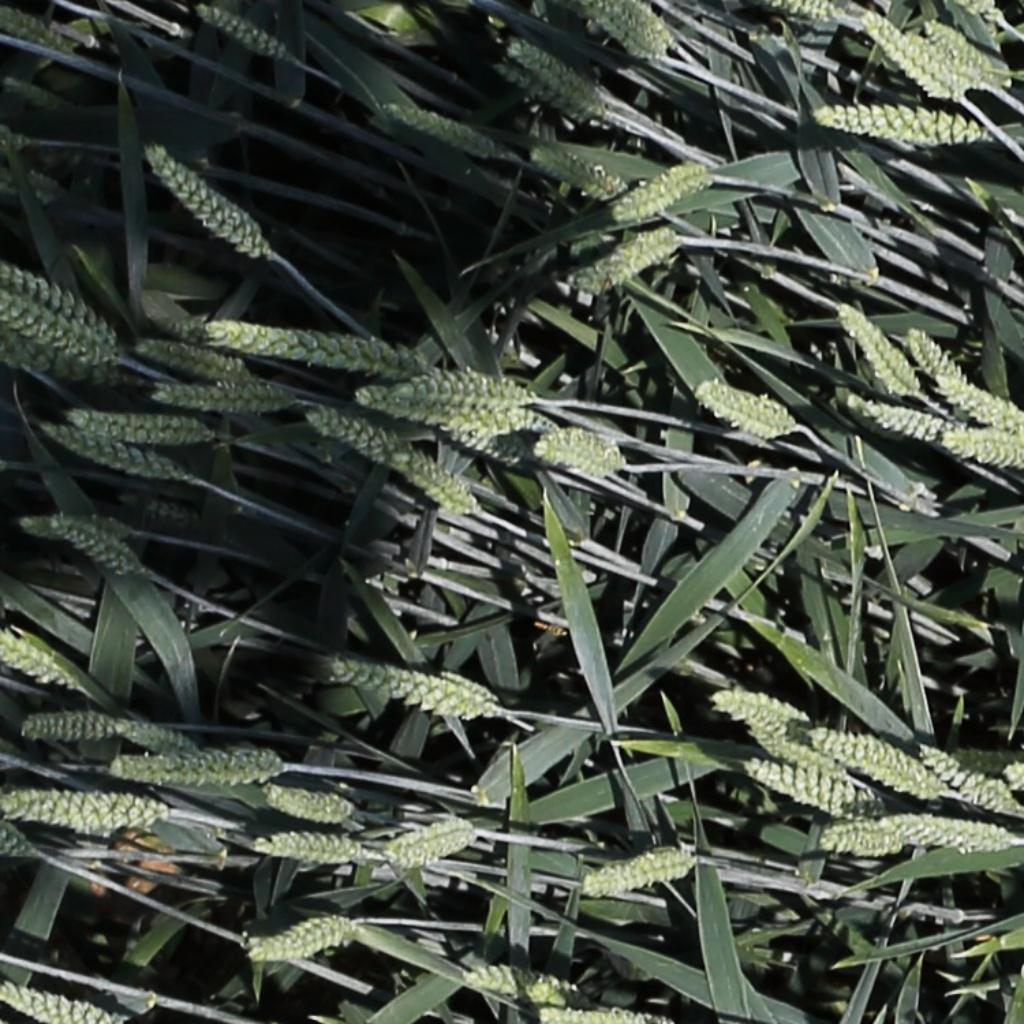0-0: (140, 143, 267, 258), (327, 662, 508, 726), (858, 8, 973, 103), (441, 953, 613, 1016), (0, 264, 122, 352), (809, 724, 939, 797), (0, 786, 178, 836), (832, 297, 920, 397), (202, 320, 394, 365), (353, 386, 532, 432), (42, 423, 181, 480), (106, 744, 289, 786), (298, 403, 419, 466), (431, 418, 542, 485), (689, 377, 803, 442), (1, 300, 120, 361), (744, 761, 873, 817), (918, 746, 1018, 816), (45, 513, 152, 576), (845, 811, 1017, 850), (582, 839, 703, 894), (240, 914, 370, 964), (572, 228, 675, 290), (740, 725, 850, 783), (702, 686, 821, 739), (506, 39, 598, 106), (386, 101, 496, 155), (0, 978, 125, 1024), (535, 424, 634, 481), (936, 375, 1024, 439), (383, 814, 483, 870), (193, 2, 286, 61), (494, 55, 587, 114), (391, 449, 475, 514), (10, 509, 145, 549), (66, 413, 224, 446), (12, 710, 137, 751), (115, 720, 224, 767), (236, 832, 383, 866), (132, 337, 248, 380), (613, 165, 707, 217), (528, 144, 622, 195), (397, 373, 537, 407), (1, 633, 80, 693), (858, 401, 974, 441), (903, 320, 969, 390), (921, 19, 999, 77), (260, 787, 364, 830), (585, 2, 659, 60), (151, 382, 289, 413), (117, 488, 216, 531), (817, 822, 906, 866), (604, 2, 671, 55), (1, 6, 70, 53), (947, 435, 1024, 468), (4, 73, 65, 107), (768, 0, 841, 21), (0, 823, 39, 862), (1001, 761, 1024, 790)
